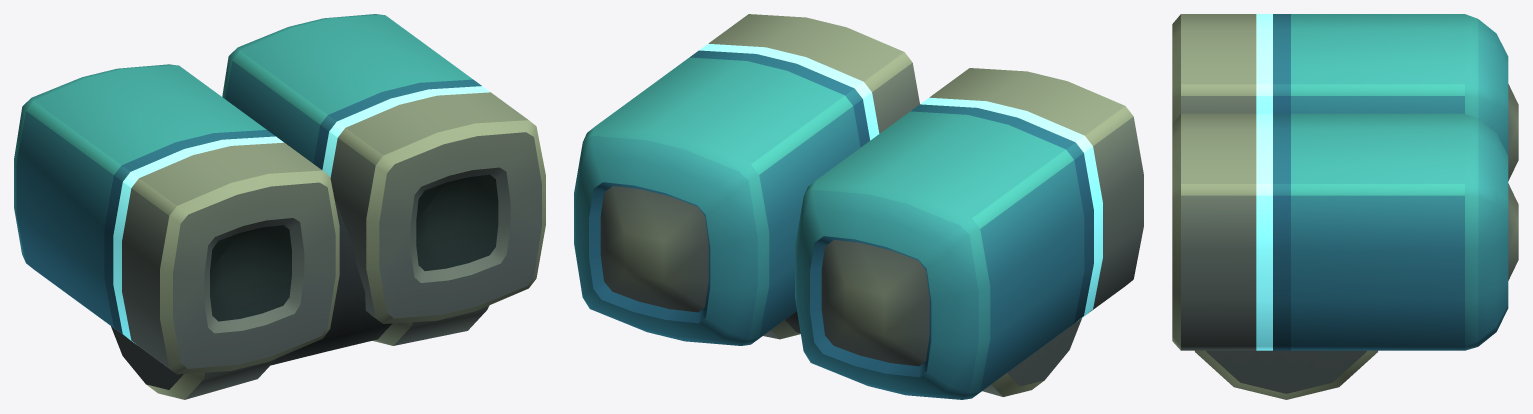
The model's file is matt-rockets-head.glb.
3 views of the same model, side by side, from view 1: azimuth 30°, elevation 25°; view 2: azimuth 150°, elevation 25°; view 3: azimuth 270°, elevation 25° (orthographic). The views are drawn at different scales.
Visible parts, largest first — view 1: turret_rocketlauncher_head; view 2: turret_rocketlauncher_head; view 3: turret_rocketlauncher_head.
Boxes of the visible parts, x1,y1,x2,y2 form: turret_rocketlauncher_head: [14, 14, 545, 399]; turret_rocketlauncher_head: [574, 14, 1143, 399]; turret_rocketlauncher_head: [1172, 14, 1518, 399].
Bounding box in the file's own units: 1.87 × 1.13 × 1.47.
Materials: 1 (1 with a texture image).
